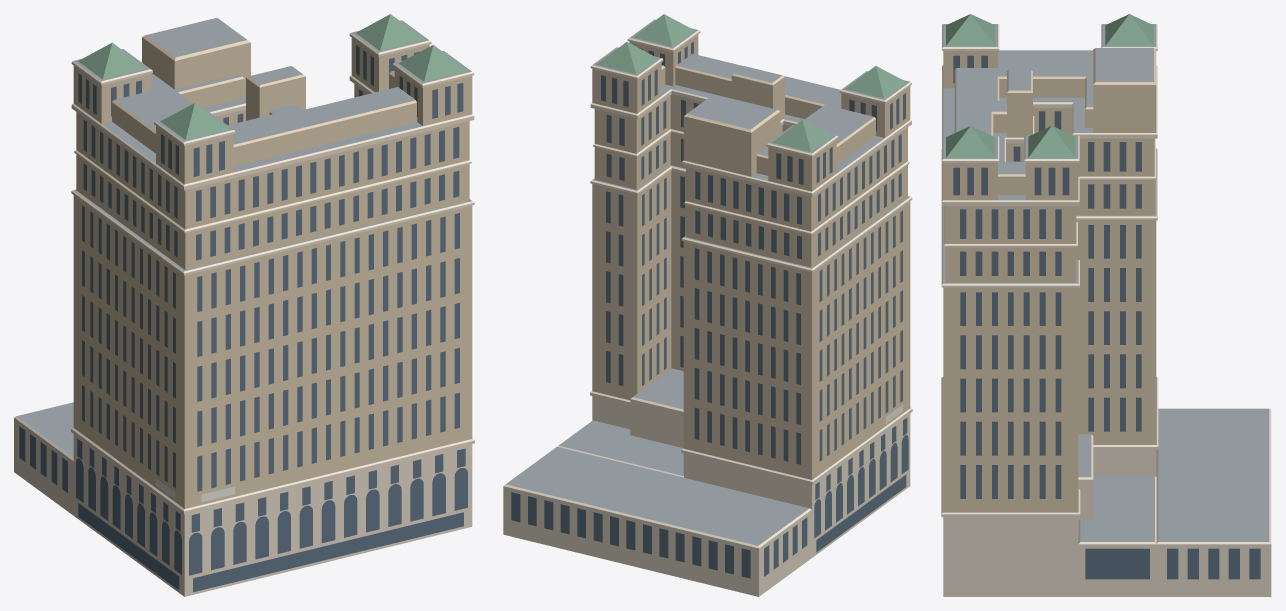
File: det-book-cadillac.glb
3 views of the same model, side by side, from view 1: azimuth 30°, elevation 25°; view 2: azimuth 150°, elevation 25°; view 3: azimuth 270°, elevation 25° (orthographic). The views are drawn at different scales.
Visible parts, largest first — view 1: Westin Book Cadillac Hotel; view 2: Westin Book Cadillac Hotel; view 3: Westin Book Cadillac Hotel.
Boxes of the visible parts, <box> form: Westin Book Cadillac Hotel: <box>14,14,474,596</box>; Westin Book Cadillac Hotel: <box>503,14,912,596</box>; Westin Book Cadillac Hotel: <box>941,14,1271,596</box>.
Bounding box in the file's own units: 69.2 × 108 × 70.65.
